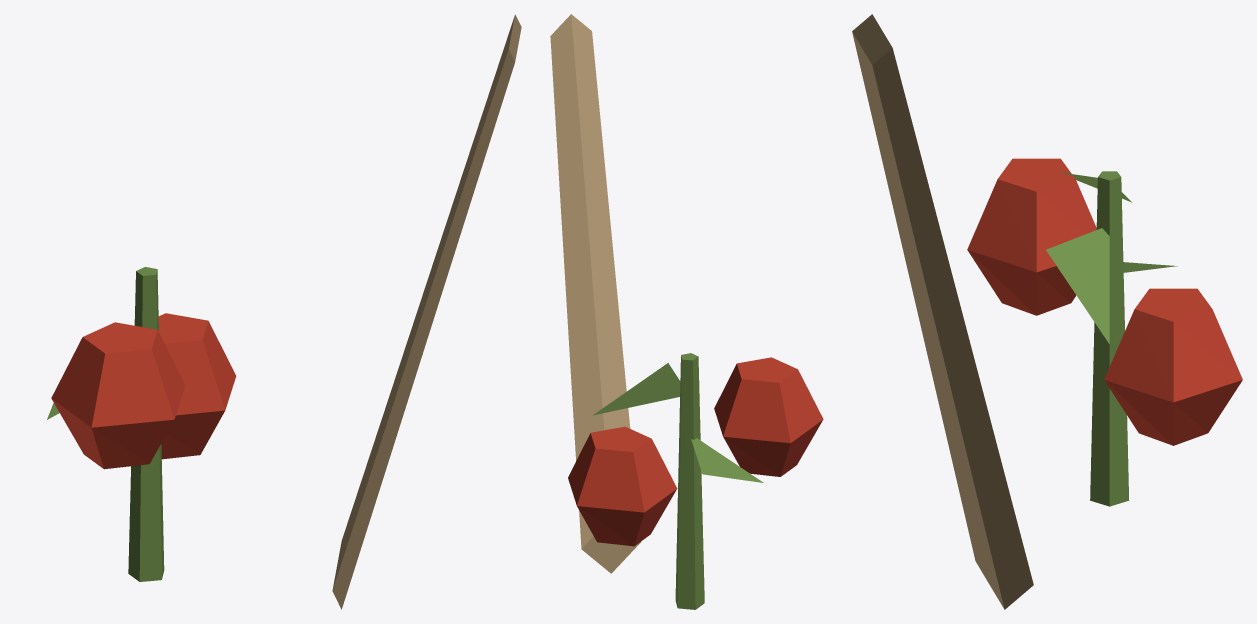
File: pomodoro.glb
The picture shows the model from 3 angles, left to right: view 1: azimuth 30°, elevation 25°; view 2: azimuth 150°, elevation 25°; view 3: azimuth 270°, elevation 25°; orthographic projection. The views are drawn at different scales.
Bounding box in the file's own units: 1.06 × 1.58 × 0.8567.
